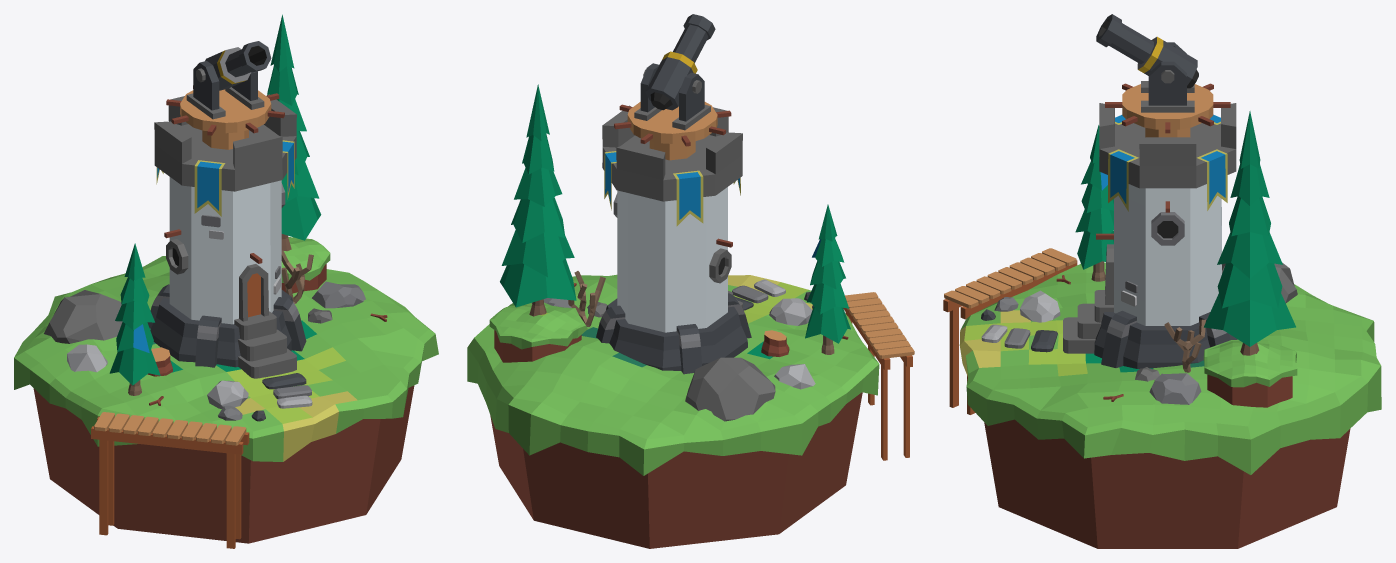
Rendered from Tower and Island.fbx.
The picture shows the model from 3 angles, left to right: view 1: azimuth 30°, elevation 25°; view 2: azimuth 150°, elevation 25°; view 3: azimuth 270°, elevation 25°; orthographic projection. The views are drawn at different scales.
Visible parts, largest first — view 1: Cylinder.012, Cylinder, Cube.037, Cylinder.001, Cylinder.002; view 2: Cylinder.012, Cylinder, Cylinder.001, Cube.037, Cylinder.002; view 3: Cylinder.012, Cylinder, Cylinder.001, Cube.037, Cylinder.002.
Part boxes in pixels (x1,y1,x2,y2): Cylinder.012: [14, 14, 438, 543]; Cylinder: [147, 94, 306, 378]; Cube.037: [91, 412, 249, 548]; Cylinder.001: [166, 61, 284, 149]; Cylinder.002: [205, 41, 271, 90]; Cylinder.012: [467, 84, 879, 548]; Cylinder: [596, 105, 751, 374]; Cylinder.001: [614, 63, 731, 160]; Cube.037: [843, 292, 914, 460]; Cylinder.002: [645, 14, 715, 110]; Cylinder.012: [959, 111, 1381, 548]; Cylinder: [1063, 103, 1237, 368]; Cylinder.001: [1105, 42, 1230, 137]; Cube.037: [943, 248, 1077, 414]; Cylinder.002: [1096, 14, 1198, 88].
Size of the model in its own units: 2069 by 2430 by 2091.
